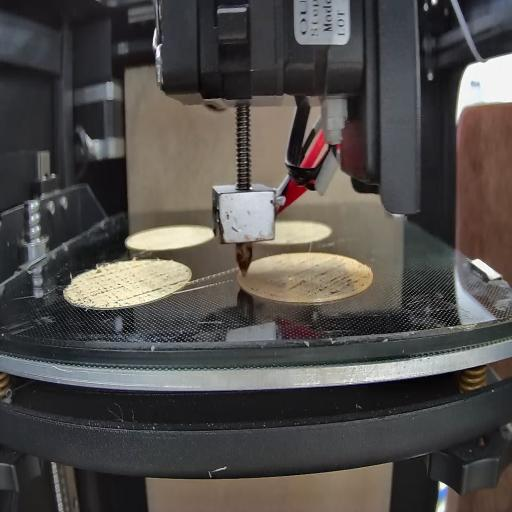under_extrusion: (67, 264, 165, 308), (285, 260, 371, 296), (246, 278, 280, 302), (168, 269, 191, 289)
